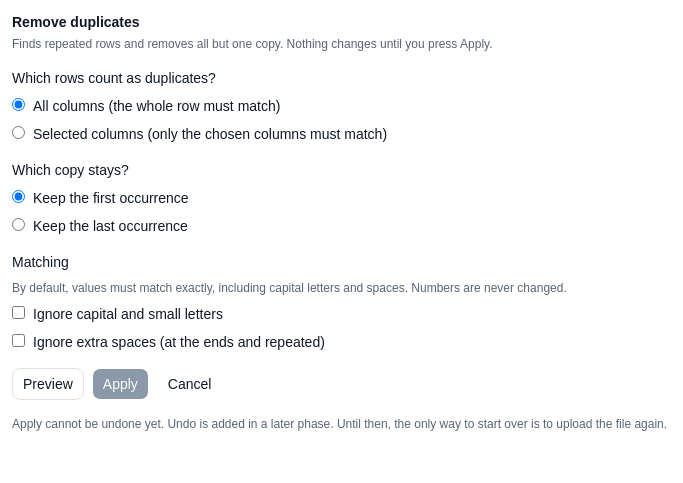
Scenario: DuplicatesPanel: preview › shows an error when the preview cannot be built
Click the button "Preview" at (48, 384), box [12,368,84,400]
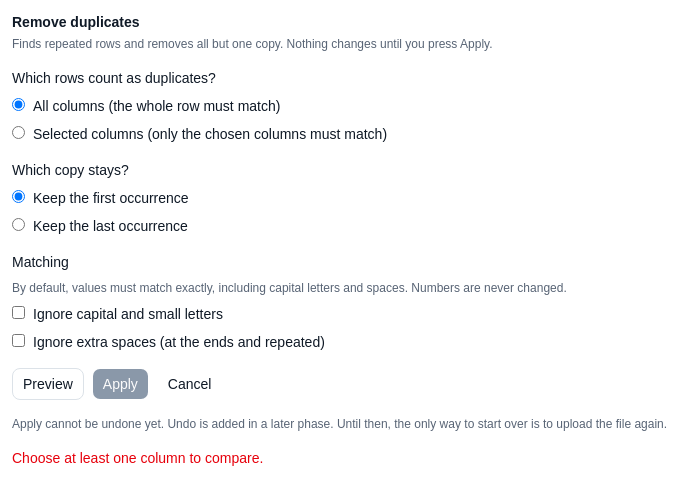
Now the message reads "Choose at least one column to compare.", box [12,450,263,466]
